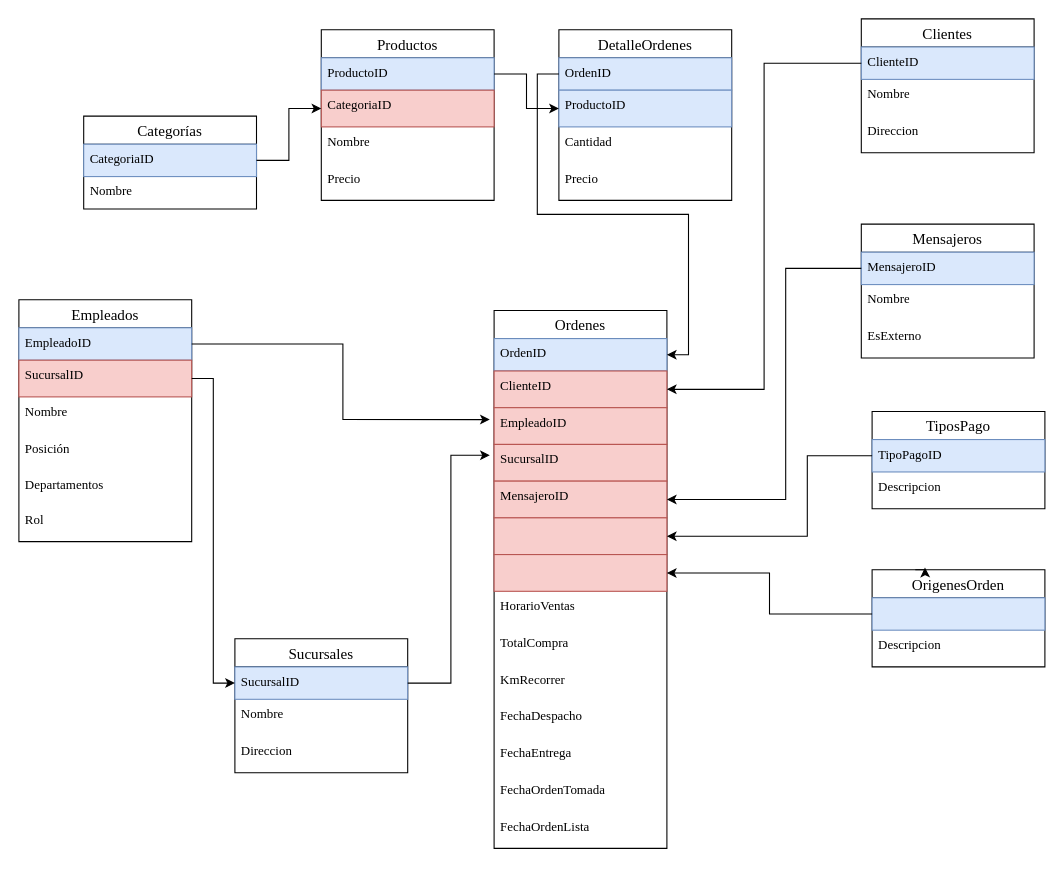
This 1064x870 diagram has some shape labels left out. The centre of each missing label's shape, as x and y in pixels:
"OrigeneID" belongs at (580,572).
"OrigenID" belongs at (958,613).
"TipodePagoID" belongs at (580,536).
